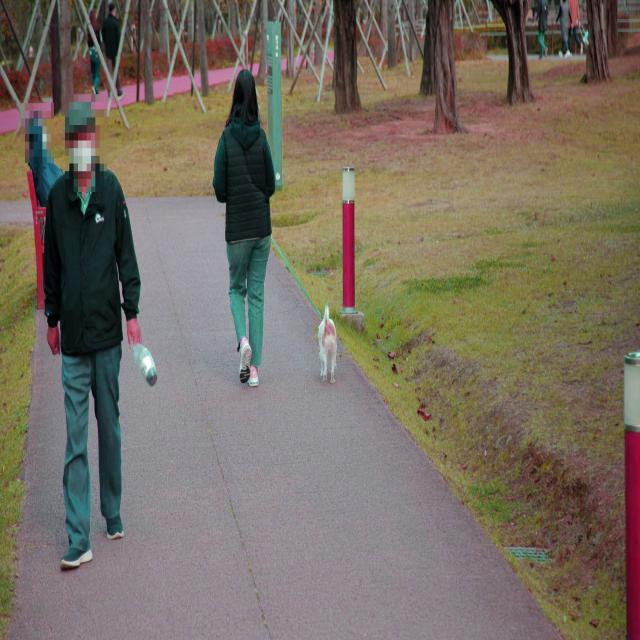Leashed_Dog: (248, 218, 337, 387)
